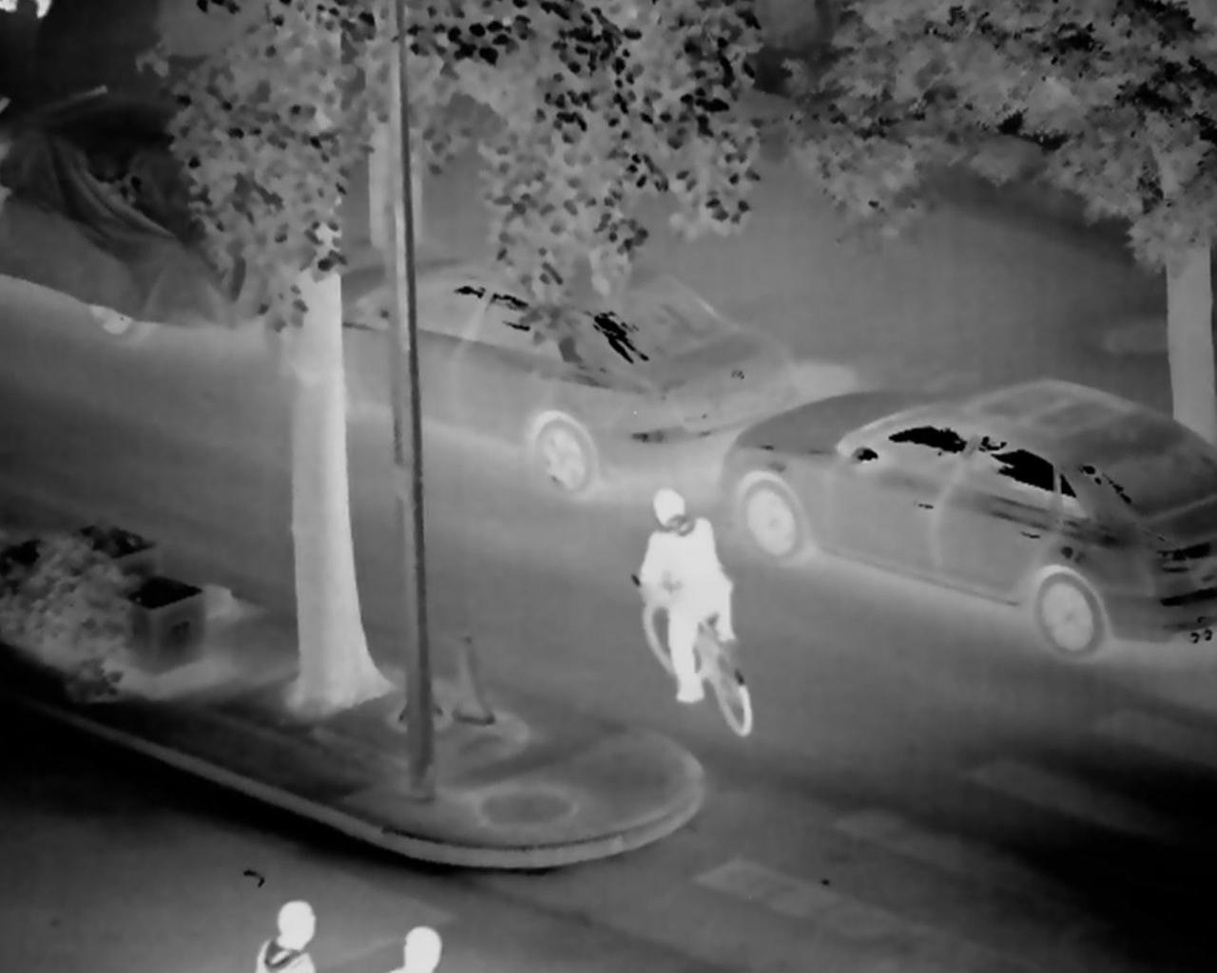person: (627, 484, 747, 715), (258, 895, 318, 973), (385, 922, 450, 973)
